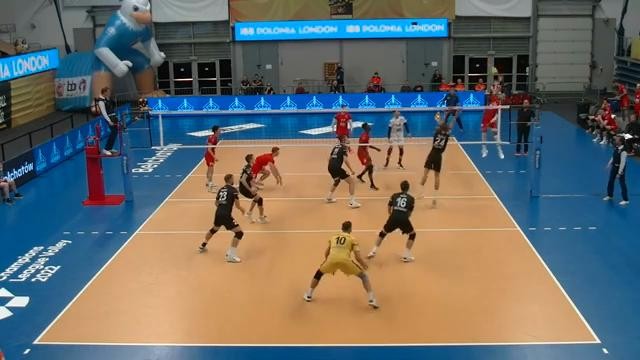Attack: (477, 69, 505, 161)
Block: (415, 106, 459, 211)
Player: (303, 221, 377, 307), (199, 174, 244, 262), (368, 180, 415, 261), (326, 135, 360, 207), (238, 154, 267, 223), (357, 123, 380, 190), (384, 110, 409, 168), (251, 147, 282, 185), (204, 125, 220, 191), (332, 106, 351, 138)
ball: (491, 67, 498, 75)
